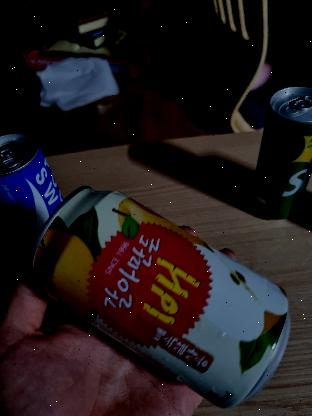Can: (33, 182, 292, 412)
